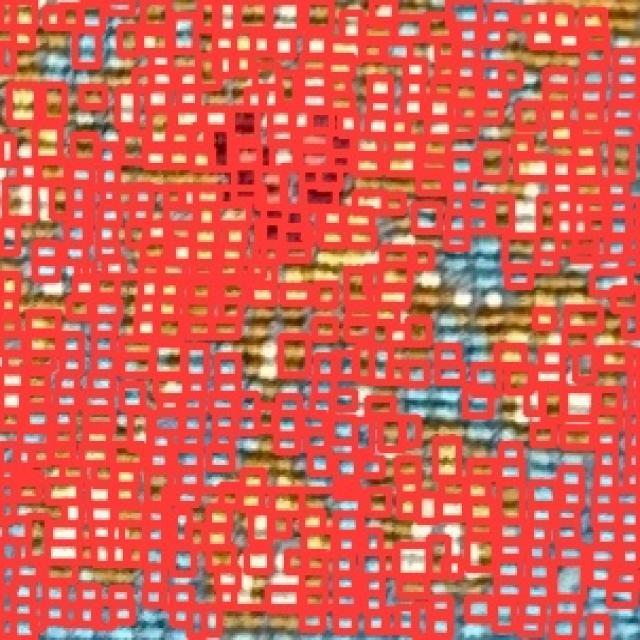Knot: (4, 182, 34, 221), (280, 336, 308, 376), (554, 562, 584, 598), (10, 84, 38, 122), (258, 168, 286, 206), (498, 483, 524, 521), (504, 238, 536, 268), (397, 546, 429, 576), (154, 344, 184, 375), (36, 126, 62, 160), (28, 516, 48, 560), (238, 1, 268, 30), (467, 537, 495, 568), (172, 16, 196, 52), (76, 30, 100, 66), (436, 440, 458, 478), (283, 166, 302, 210), (480, 145, 504, 179), (346, 270, 370, 304), (232, 109, 258, 140), (148, 110, 170, 146), (116, 88, 138, 124), (566, 390, 594, 418), (211, 128, 230, 169), (147, 472, 171, 504), (306, 1, 332, 30), (466, 388, 492, 417), (566, 309, 600, 331), (267, 588, 301, 610), (429, 538, 448, 577), (414, 204, 440, 232), (612, 142, 632, 178), (44, 85, 64, 121), (304, 531, 334, 555), (272, 490, 302, 514), (449, 1, 479, 25), (198, 55, 219, 89), (517, 157, 549, 179), (379, 264, 411, 286), (48, 480, 80, 502), (330, 38, 362, 60), (143, 1, 169, 28), (122, 133, 146, 162), (592, 274, 630, 292), (236, 166, 256, 200), (73, 136, 97, 164), (304, 186, 336, 207), (426, 17, 454, 41), (542, 390, 564, 420), (354, 192, 384, 214), (132, 412, 150, 448), (492, 196, 510, 232), (475, 366, 498, 394), (382, 418, 402, 450), (186, 346, 206, 378), (373, 348, 392, 381), (354, 134, 380, 158), (600, 348, 628, 370), (140, 31, 168, 53), (395, 18, 423, 40), (612, 288, 640, 310), (496, 345, 524, 367), (52, 182, 69, 218), (562, 428, 594, 447), (29, 334, 58, 354), (251, 262, 275, 286), (507, 368, 531, 392), (82, 4, 104, 30), (468, 500, 494, 522), (438, 498, 464, 520), (386, 156, 416, 175), (122, 356, 152, 375), (50, 524, 80, 543), (218, 205, 248, 224), (14, 2, 35, 29), (119, 27, 140, 54), (274, 142, 294, 170), (174, 110, 202, 130), (80, 444, 108, 464), (418, 494, 438, 522), (364, 20, 392, 40), (278, 73, 296, 104), (29, 313, 58, 332), (0, 224, 19, 253), (422, 139, 447, 161), (246, 548, 271, 570), (208, 548, 233, 570), (540, 198, 556, 232), (123, 339, 155, 356), (390, 136, 420, 154), (156, 378, 186, 396), (166, 208, 196, 226), (300, 150, 328, 169), (114, 446, 142, 465), (21, 428, 49, 447), (86, 411, 114, 430), (158, 318, 182, 340), (88, 483, 112, 505), (147, 522, 171, 544), (205, 526, 229, 548), (552, 617, 576, 639), (120, 386, 144, 408), (582, 10, 606, 32), (532, 482, 556, 504), (122, 524, 146, 546), (5, 518, 29, 540), (612, 102, 636, 124), (284, 207, 308, 229), (256, 66, 280, 88), (252, 512, 269, 543), (355, 422, 372, 453), (576, 350, 594, 379), (342, 12, 362, 38), (174, 448, 200, 468), (506, 268, 532, 288), (574, 181, 604, 198), (357, 346, 372, 380), (175, 510, 190, 544), (332, 420, 355, 442), (335, 455, 358, 477), (46, 564, 74, 582), (257, 223, 281, 244), (368, 490, 389, 514), (334, 354, 355, 378), (173, 549, 194, 573), (282, 286, 310, 304), (154, 414, 182, 432), (454, 83, 478, 104), (284, 226, 312, 244), (184, 301, 210, 320), (40, 163, 66, 182), (498, 580, 524, 599), (555, 598, 581, 617), (302, 91, 328, 110), (609, 585, 635, 604), (564, 331, 590, 350), (386, 42, 412, 61), (611, 121, 637, 140), (346, 320, 372, 339), (368, 398, 394, 417), (430, 614, 452, 636), (16, 480, 40, 500), (194, 226, 218, 246), (2, 370, 26, 390), (90, 504, 114, 524), (167, 148, 191, 168), (379, 288, 409, 304), (237, 146, 261, 166), (580, 68, 604, 88), (328, 56, 352, 76), (452, 154, 472, 178), (300, 130, 330, 146), (616, 86, 640, 106), (584, 44, 608, 64), (399, 579, 427, 596), (535, 368, 563, 385), (382, 248, 410, 265), (84, 392, 112, 409), (116, 507, 144, 524), (142, 241, 167, 260), (615, 489, 640, 508), (573, 160, 599, 178), (546, 70, 572, 88), (590, 546, 616, 564), (551, 7, 572, 29), (599, 390, 620, 412), (210, 507, 231, 529), (1, 390, 22, 412), (336, 592, 357, 614), (210, 448, 231, 470), (480, 64, 501, 86), (407, 362, 428, 384), (146, 89, 170, 108), (205, 109, 229, 128), (530, 29, 554, 48), (320, 228, 344, 247), (409, 320, 428, 344), (86, 427, 110, 446), (591, 566, 615, 585), (88, 374, 112, 393), (66, 224, 90, 243), (26, 410, 50, 429), (221, 283, 245, 302), (196, 187, 220, 206), (495, 604, 514, 628), (34, 259, 58, 278), (210, 393, 234, 412), (346, 210, 370, 229), (438, 366, 463, 384), (414, 606, 429, 636), (578, 124, 606, 140), (544, 88, 572, 104), (204, 608, 220, 636), (610, 572, 638, 588), (468, 520, 494, 537), (558, 545, 584, 562), (302, 74, 328, 91), (420, 175, 446, 192), (350, 229, 376, 246), (430, 98, 452, 118), (60, 7, 80, 29), (240, 490, 262, 510), (94, 316, 116, 336), (150, 432, 172, 452), (182, 411, 202, 433), (218, 356, 238, 378), (330, 134, 352, 154), (146, 545, 166, 567), (94, 465, 114, 487), (398, 459, 418, 481), (548, 124, 572, 142), (80, 88, 104, 106), (192, 282, 216, 300), (500, 522, 524, 540), (398, 608, 416, 632), (402, 419, 418, 446), (302, 414, 326, 432), (528, 582, 552, 600), (468, 600, 492, 618), (258, 408, 276, 432), (526, 387, 542, 414), (498, 462, 522, 480), (420, 158, 448, 173), (71, 184, 92, 204), (368, 116, 389, 136), (606, 238, 627, 258), (15, 618, 36, 638), (520, 106, 540, 127), (617, 50, 638, 70), (304, 552, 325, 572), (304, 210, 319, 238), (69, 298, 90, 318), (317, 284, 336, 306), (306, 36, 328, 55), (125, 542, 144, 564), (179, 70, 198, 92), (330, 151, 352, 170), (252, 284, 274, 303), (318, 357, 337, 379), (490, 6, 512, 25), (589, 617, 608, 639), (484, 84, 506, 103), (354, 156, 380, 172), (595, 410, 619, 427), (302, 56, 326, 73), (593, 508, 617, 525), (16, 562, 40, 579), (146, 148, 166, 168), (427, 120, 452, 136), (94, 334, 114, 354), (238, 394, 258, 414), (272, 110, 292, 130), (529, 562, 550, 581), (498, 560, 519, 579), (337, 514, 358, 533), (303, 512, 324, 531), (371, 78, 392, 97), (531, 506, 552, 525), (315, 320, 336, 339), (319, 169, 340, 188), (334, 391, 355, 410), (303, 572, 324, 591), (26, 372, 48, 390), (256, 244, 278, 262), (188, 526, 206, 548), (272, 514, 290, 536), (152, 70, 174, 88), (80, 602, 98, 624), (366, 592, 384, 614), (78, 542, 96, 564), (310, 112, 332, 130), (466, 214, 488, 232), (236, 414, 258, 432), (220, 300, 242, 318), (556, 522, 578, 540), (94, 542, 112, 564), (466, 196, 488, 214), (306, 432, 328, 450), (64, 244, 86, 262), (148, 450, 170, 468), (190, 608, 204, 636), (0, 136, 13, 166), (28, 353, 54, 368), (596, 256, 622, 271), (158, 282, 182, 298), (220, 246, 244, 262), (192, 246, 216, 262), (162, 264, 186, 280), (498, 542, 522, 558), (176, 488, 200, 504), (470, 462, 494, 478), (328, 94, 352, 110), (96, 603, 112, 627), (95, 300, 119, 316), (61, 464, 85, 480), (271, 130, 295, 146), (580, 88, 604, 104), (0, 336, 24, 352), (158, 298, 177, 318), (214, 412, 233, 432), (596, 526, 616, 545), (278, 415, 298, 434), (621, 508, 640, 528), (112, 603, 132, 622), (337, 534, 356, 554), (242, 471, 262, 490), (286, 552, 305, 572), (517, 8, 536, 28), (362, 458, 382, 477), (98, 278, 118, 297), (610, 216, 628, 237), (375, 306, 396, 324), (532, 426, 553, 444), (447, 232, 468, 250), (534, 310, 555, 328), (617, 70, 638, 88), (36, 244, 57, 262), (279, 396, 300, 414), (71, 166, 92, 184), (213, 321, 238, 336), (1, 274, 18, 296), (215, 54, 232, 76), (0, 444, 17, 466), (336, 554, 353, 576), (188, 320, 210, 337), (1, 540, 18, 562), (111, 542, 128, 564), (623, 314, 640, 336), (128, 224, 145, 246), (442, 480, 465, 496), (197, 206, 216, 225), (459, 102, 478, 121), (389, 326, 408, 345), (193, 151, 212, 170), (54, 409, 73, 428), (406, 60, 425, 79), (19, 162, 38, 181), (468, 480, 488, 498), (136, 318, 156, 336), (226, 226, 244, 246), (116, 484, 134, 504), (398, 498, 418, 516), (62, 354, 82, 372), (26, 390, 46, 408), (562, 468, 580, 488), (116, 468, 136, 486), (0, 564, 15, 588), (94, 354, 114, 372), (182, 432, 202, 450), (218, 378, 238, 396), (314, 378, 334, 396), (366, 612, 386, 630), (524, 600, 542, 620), (450, 178, 470, 196), (284, 244, 308, 259), (218, 570, 238, 588), (438, 346, 458, 364), (112, 588, 132, 606), (587, 31, 608, 48), (304, 592, 325, 609), (179, 471, 200, 488), (71, 206, 92, 223), (369, 98, 390, 115), (104, 260, 125, 277), (481, 104, 502, 121), (576, 144, 598, 160), (222, 485, 238, 507), (6, 354, 28, 370), (168, 130, 190, 146), (0, 45, 13, 72), (173, 244, 192, 262), (276, 36, 294, 55), (548, 106, 567, 124), (556, 217, 574, 236), (76, 278, 94, 297), (438, 41, 456, 60), (552, 160, 571, 178), (598, 470, 616, 489), (448, 214, 467, 232), (414, 248, 432, 267), (98, 145, 116, 164), (15, 582, 34, 600), (46, 604, 64, 623), (314, 398, 332, 417), (252, 34, 271, 52), (179, 88, 198, 106), (46, 584, 64, 603), (501, 444, 520, 462), (310, 453, 328, 472), (620, 528, 639, 546), (558, 235, 576, 254), (432, 597, 450, 616), (214, 34, 233, 52), (80, 586, 98, 605), (444, 558, 461, 578), (560, 31, 580, 48), (384, 195, 404, 212), (58, 392, 78, 409), (562, 489, 582, 506), (594, 490, 614, 507), (215, 430, 232, 450), (434, 80, 454, 97), (535, 8, 552, 28), (180, 188, 197, 208), (278, 436, 298, 453), (100, 206, 120, 223), (542, 350, 562, 367), (52, 446, 73, 462), (193, 264, 214, 280), (458, 46, 479, 62), (302, 614, 323, 630), (452, 121, 476, 135), (519, 620, 543, 634), (335, 614, 356, 630), (366, 266, 380, 290), (62, 336, 80, 354), (152, 52, 170, 70), (184, 396, 202, 414), (172, 606, 190, 624), (366, 576, 384, 594), (340, 115, 357, 134), (235, 54, 252, 73), (607, 181, 626, 198), (513, 139, 532, 156), (531, 524, 548, 543), (405, 79, 424, 96), (173, 587, 192, 604), (1, 411, 20, 428), (53, 428, 72, 445), (246, 90, 263, 109), (336, 574, 355, 591), (389, 362, 406, 381), (14, 30, 33, 47), (264, 89, 281, 108), (220, 264, 240, 280), (46, 8, 62, 28), (294, 110, 310, 130), (116, 188, 132, 208), (148, 510, 168, 526), (456, 64, 476, 80), (574, 246, 594, 262), (324, 210, 344, 226), (1, 2, 14, 26), (0, 591, 13, 615), (106, 1, 132, 13), (348, 309, 374, 321), (102, 166, 116, 188), (366, 530, 380, 552), (404, 98, 422, 115), (141, 280, 158, 298), (148, 225, 166, 242), (60, 375, 78, 392), (0, 316, 17, 334), (140, 298, 157, 316), (391, 118, 408, 136), (528, 544, 546, 561), (558, 507, 576, 524), (145, 588, 162, 606), (132, 205, 150, 222), (364, 42, 382, 59), (460, 26, 477, 44), (148, 566, 164, 585), (134, 187, 150, 206), (587, 198, 606, 214), (621, 548, 640, 564), (504, 66, 520, 85), (576, 236, 596, 251), (98, 244, 118, 259), (193, 124, 208, 144), (93, 525, 110, 542), (588, 217, 605, 234), (33, 447, 50, 464), (0, 297, 17, 314), (64, 504, 80, 522), (598, 450, 614, 468), (610, 198, 628, 214), (188, 378, 204, 396), (136, 70, 152, 88), (32, 605, 44, 629), (0, 616, 13, 638), (0, 500, 13, 522), (553, 182, 572, 197), (573, 217, 588, 236), (100, 225, 116, 242), (438, 62, 454, 79), (400, 479, 418, 494), (330, 79, 348, 94), (538, 255, 556, 270), (382, 554, 396, 573), (64, 604, 78, 623), (582, 108, 601, 122), (240, 262, 252, 284), (0, 480, 13, 500), (598, 432, 614, 448), (166, 190, 182, 206), (486, 28, 502, 44), (220, 590, 236, 606), (623, 254, 640, 269), (572, 200, 587, 217), (336, 484, 357, 496), (78, 264, 96, 278), (627, 470, 640, 489), (17, 446, 30, 465), (452, 196, 468, 211), (170, 228, 190, 240), (16, 473, 40, 483), (558, 199, 572, 216), (142, 264, 159, 278), (102, 187, 116, 204), (627, 450, 640, 468), (160, 400, 179, 412), (0, 467, 15, 482), (627, 235, 640, 252), (627, 411, 640, 428), (629, 430, 640, 450), (387, 611, 397, 633), (629, 392, 640, 411), (628, 199, 639, 216), (180, 282, 190, 300), (629, 216, 640, 232), (632, 350, 640, 369), (632, 372, 640, 391), (212, 283, 220, 302)
